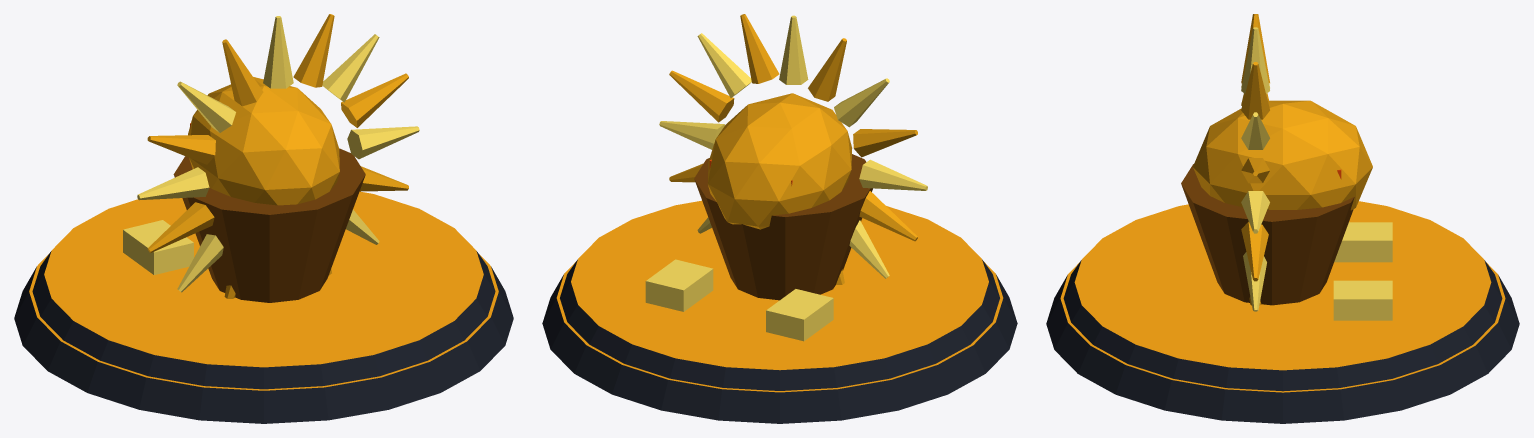
Rendered from solis_chimera.obj.
The picture shows the model from 3 angles, left to right: view 1: azimuth 30°, elevation 25°; view 2: azimuth 150°, elevation 25°; view 3: azimuth 270°, elevation 25°; orthographic projection. The views are drawn at different scales.
Parts seen in each view (by area): view 1: GrandRunicPedestal, ChimeraChest, ChimeraHead, ChimeraPaw_L, ChimeraManeRay_3, ChimeraManeRay_1, ChimeraManeRay_4, ChimeraManeRay_0, ChimeraManeRay_8, ChimeraManeRay_2, ChimeraManeRay_9, ChimeraManeRay_5 (+5 smaller); view 2: GrandRunicPedestal, ChimeraHead, ChimeraChest, SolisTheSunChimera, ChimeraPaw_L, ChimeraManeRay_3, ChimeraManeRay_1, ChimeraManeRay_4, ChimeraManeRay_8, ChimeraManeRay_2, ChimeraManeRay_5, ChimeraManeRay_7 (+4 smaller); view 3: GrandRunicPedestal, ChimeraHead, ChimeraChest, SolisTheSunChimera, ChimeraPaw_L, ChimeraManeRay_3, ChimeraManeRay_15, ChimeraManeRay_4, ChimeraManeRay_0, ChimeraManeRay_2, ChimeraManeRay_14, ChimeraManeRay_1.
Boxes of the visible parts, x1=… form: GrandRunicPedestal: x1=14, y1=191, x2=513, y2=423; ChimeraChest: x1=173, y1=148, x2=365, y2=302; ChimeraHead: x1=188, y1=77, x2=339, y2=205; ChimeraPaw_L: x1=123, y1=220, x2=193, y2=274; ChimeraManeRay_3: x1=293, y1=14, x2=334, y2=87; ChimeraManeRay_1: x1=341, y1=73, x2=408, y2=127; ChimeraManeRay_4: x1=263, y1=16, x2=293, y2=88; ChimeraManeRay_0: x1=347, y1=126, x2=419, y2=159; ChimeraManeRay_8: x1=137, y1=167, x2=209, y2=200; ChimeraManeRay_2: x1=322, y1=34, x2=379, y2=102; ChimeraManeRay_9: x1=147, y1=202, x2=214, y2=252; ChimeraManeRay_5: x1=222, y1=39, x2=263, y2=106; GrandRunicPedestal: x1=542, y1=200, x2=1017, y2=423; ChimeraHead: x1=707, y1=93, x2=852, y2=229; ChimeraChest: x1=694, y1=154, x2=872, y2=300; SolisTheSunChimera: x1=645, y1=259, x2=713, y2=311; ChimeraPaw_L: x1=766, y1=289, x2=833, y2=341; ChimeraManeRay_3: x1=740, y1=14, x2=779, y2=83; ChimeraManeRay_1: x1=669, y1=70, x2=734, y2=122; ChimeraManeRay_4: x1=779, y1=15, x2=808, y2=84; ChimeraManeRay_8: x1=859, y1=159, x2=927, y2=190; ChimeraManeRay_2: x1=697, y1=33, x2=751, y2=97; ChimeraManeRay_5: x1=808, y1=38, x2=846, y2=101; ChimeraManeRay_7: x1=853, y1=129, x2=917, y2=157; GrandRunicPedestal: x1=1046, y1=201, x2=1519, y2=423; ChimeraHead: x1=1193, y1=100, x2=1372, y2=210; ChimeraChest: x1=1181, y1=164, x2=1354, y2=305; SolisTheSunChimera: x1=1333, y1=280, x2=1392, y2=320; ChimeraPaw_L: x1=1334, y1=222, x2=1392, y2=262; ChimeraManeRay_3: x1=1241, y1=62, x2=1269, y2=119; ChimeraManeRay_15: x1=1241, y1=221, x2=1268, y2=281; ChimeraManeRay_4: x1=1241, y1=27, x2=1269, y2=93; ChimeraManeRay_0: x1=1241, y1=191, x2=1269, y2=233; ChimeraManeRay_2: x1=1241, y1=112, x2=1269, y2=149; ChimeraManeRay_14: x1=1243, y1=252, x2=1266, y2=311; ChimeraManeRay_1: x1=1241, y1=158, x2=1269, y2=183.
Size of the model in its own units: 2.6 by 1.79 by 2.6.
